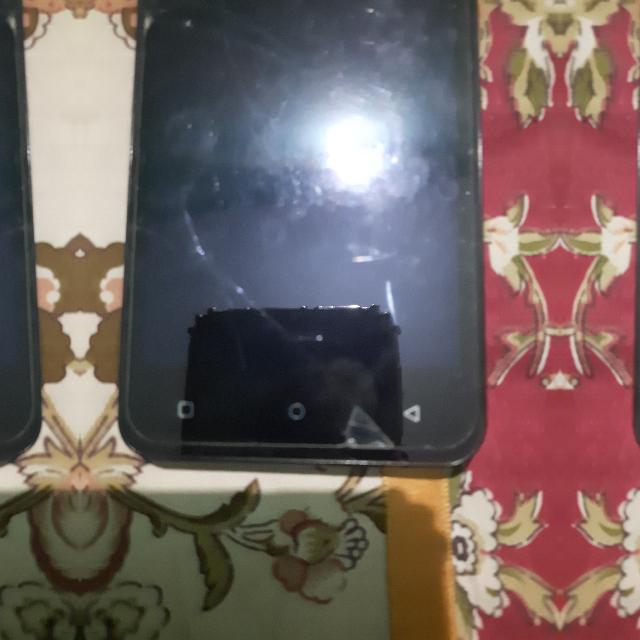phone_screen: (637, 286, 639, 433)
